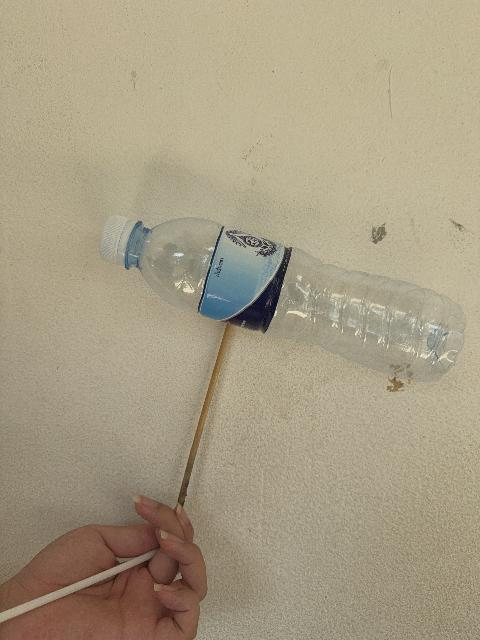bottle: (100, 216, 465, 381)
